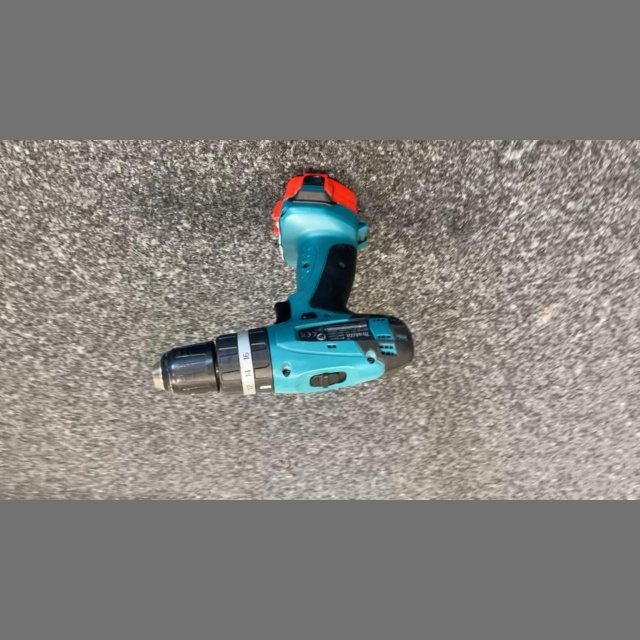drill: (146, 167, 418, 399)
